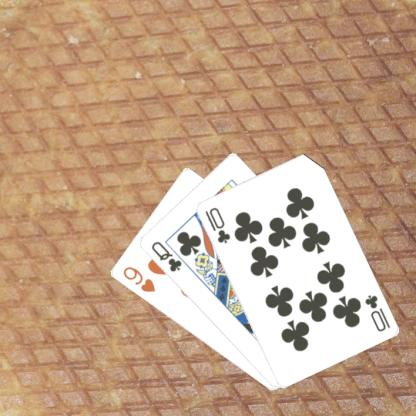10C: (202, 204, 232, 245), (362, 292, 392, 333)
9H: (120, 264, 156, 294)
QC: (148, 238, 183, 273)
